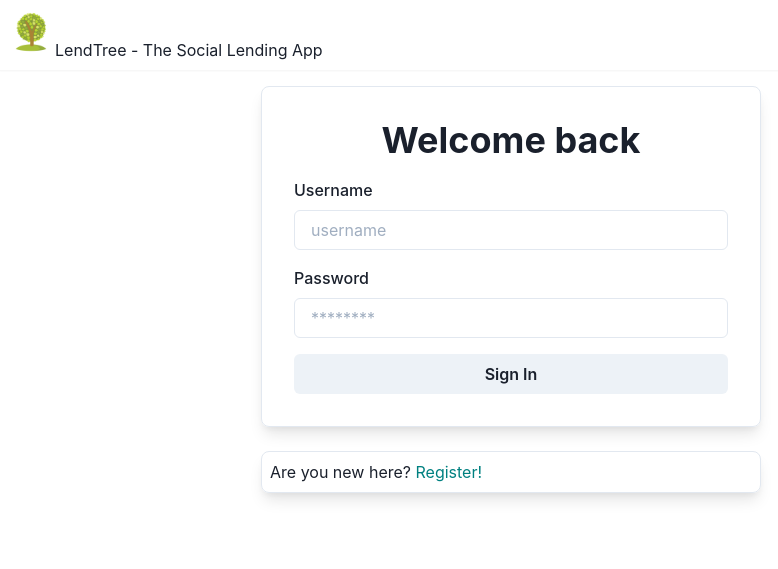
Test: Login › should show error when empty field provided
The image size is (778, 569).
Click the button "Sign In".
click(511, 374)  # box x1=294 y1=354 x2=728 y2=394
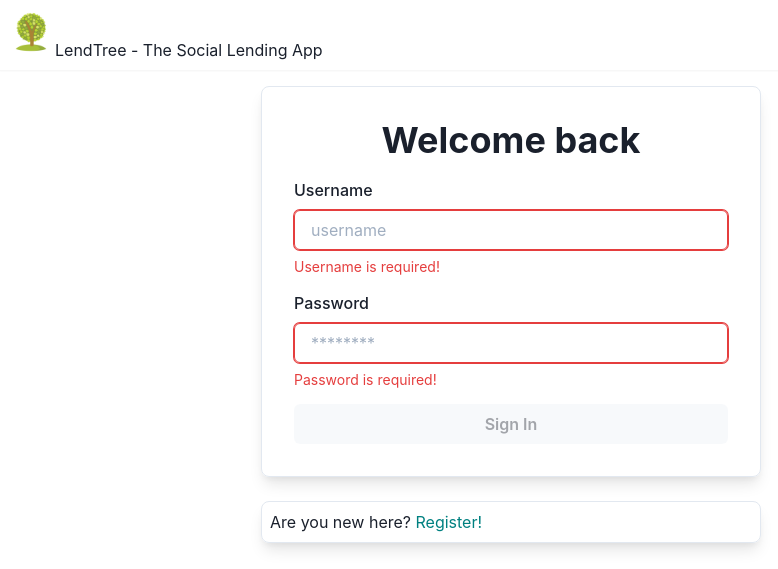
Expected: the text "Username is required!" is shown, x1=294 y1=258 x2=440 y2=275
Expected: the text "Password is required!" is shown, x1=294 y1=371 x2=437 y2=388
